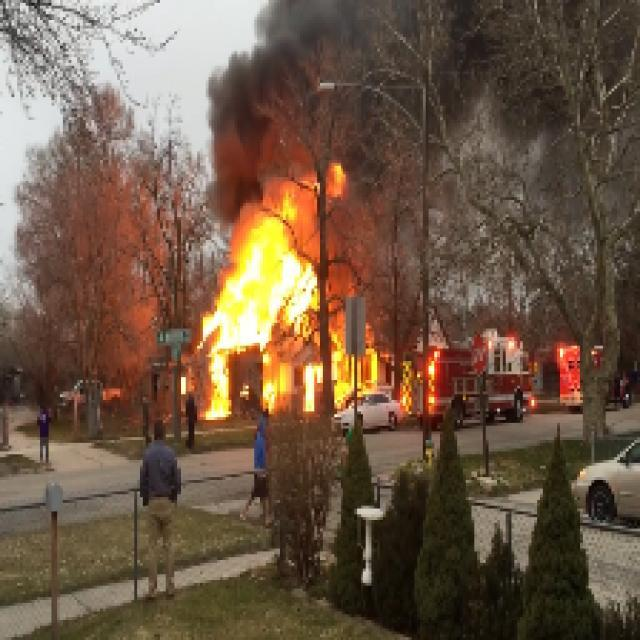Fire: (214, 222, 308, 378)
Smoke: (206, 44, 286, 124)
